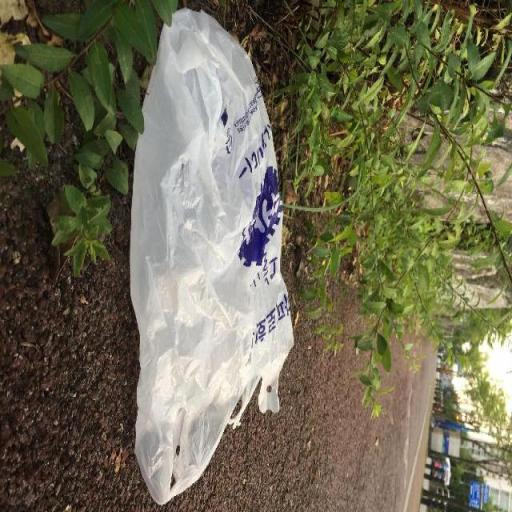plastic-bag: (124, 5, 298, 512)
